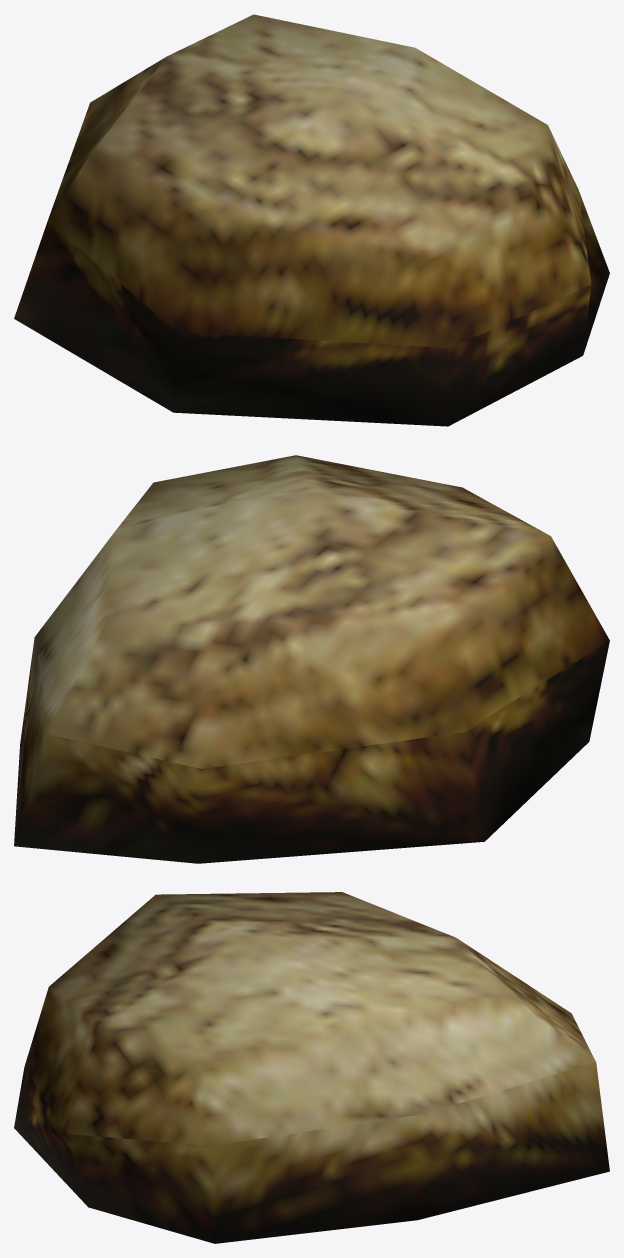
The model's file is stone05.FBX.
3 renders of one model, top to bottom at view 1: azimuth 30°, elevation 25°; view 2: azimuth 150°, elevation 25°; view 3: azimuth 270°, elevation 25°, orthographic. The views are drawn at different scales.
Visible parts, largest first — view 1: stone05; view 2: stone05; view 3: stone05.
Boxes of the visible parts, <box> form: stone05: <box>14,14,609,426</box>; stone05: <box>14,455,609,863</box>; stone05: <box>14,892,609,1243</box>.
Size of the model in its own units: 764 by 341 by 893.
